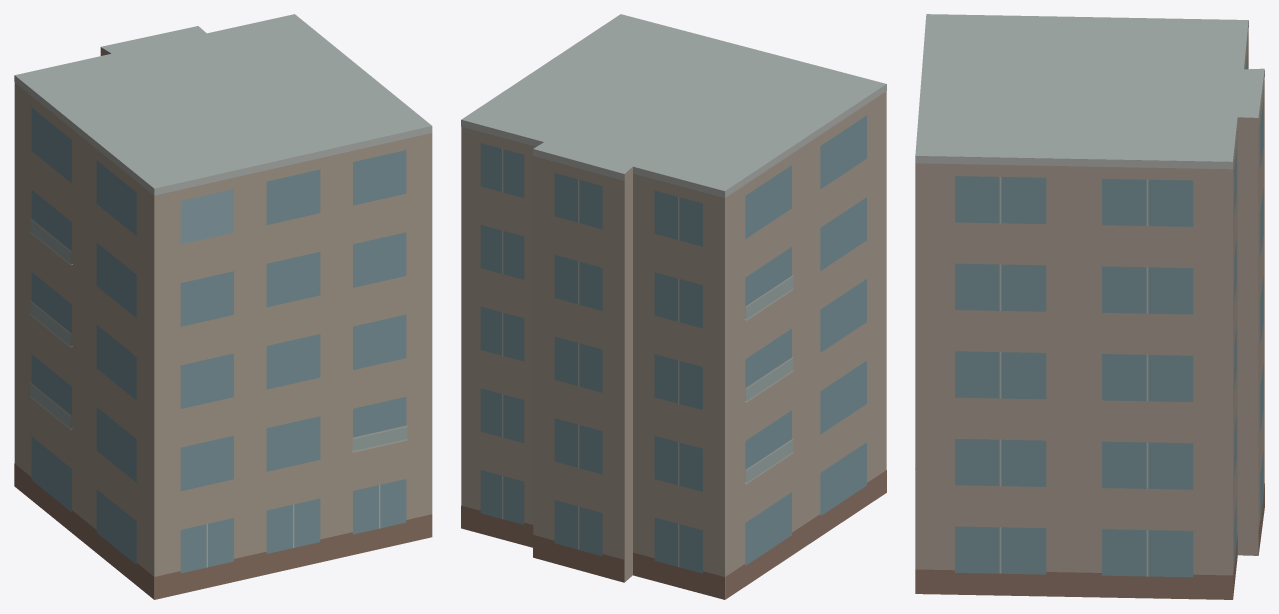
The model's file is survey-upis-32801546.glb.
3 renders of one model, left to right at view 1: azimuth 30°, elevation 25°; view 2: azimuth 150°, elevation 25°; view 3: azimuth 270°, elevation 25°, orthographic. The views are drawn at different scales.
Visible parts, largest first — view 1: survey-upis-32801546.tmp; view 2: survey-upis-32801546.tmp; view 3: survey-upis-32801546.tmp.
Part boxes in pixels (bbox=[...]): survey-upis-32801546.tmp: bbox=[14, 14, 432, 599]; survey-upis-32801546.tmp: bbox=[461, 14, 886, 599]; survey-upis-32801546.tmp: bbox=[915, 14, 1264, 599].
Size of the model in its own units: 10.47 by 14.45 by 10.46.
